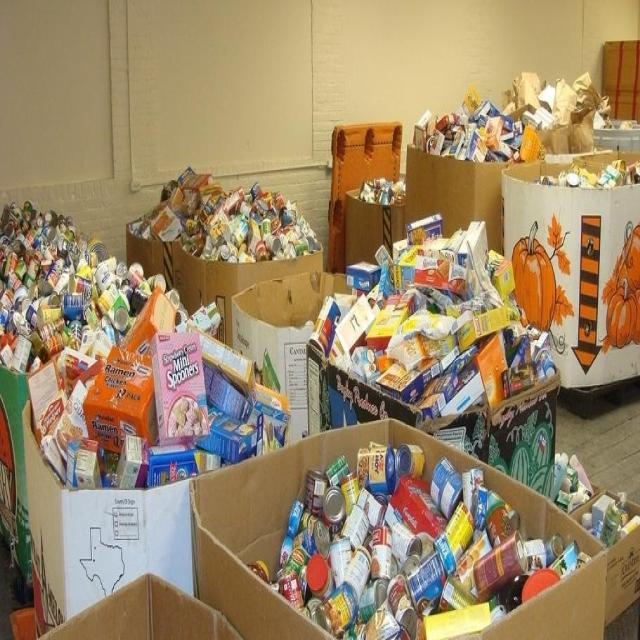can: (247, 438, 570, 640), (0, 146, 166, 341), (159, 134, 322, 265)
